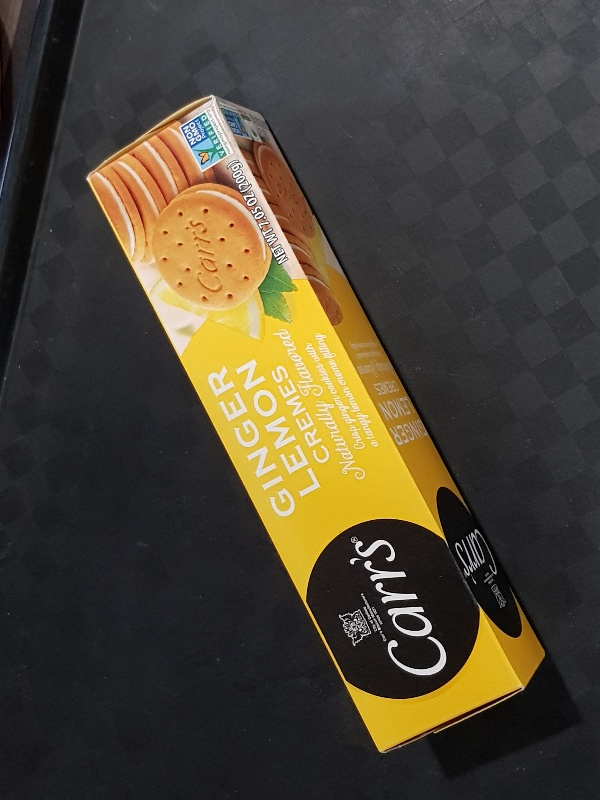Carr's Ginger Lemon Cremes: (86, 93, 545, 755)
